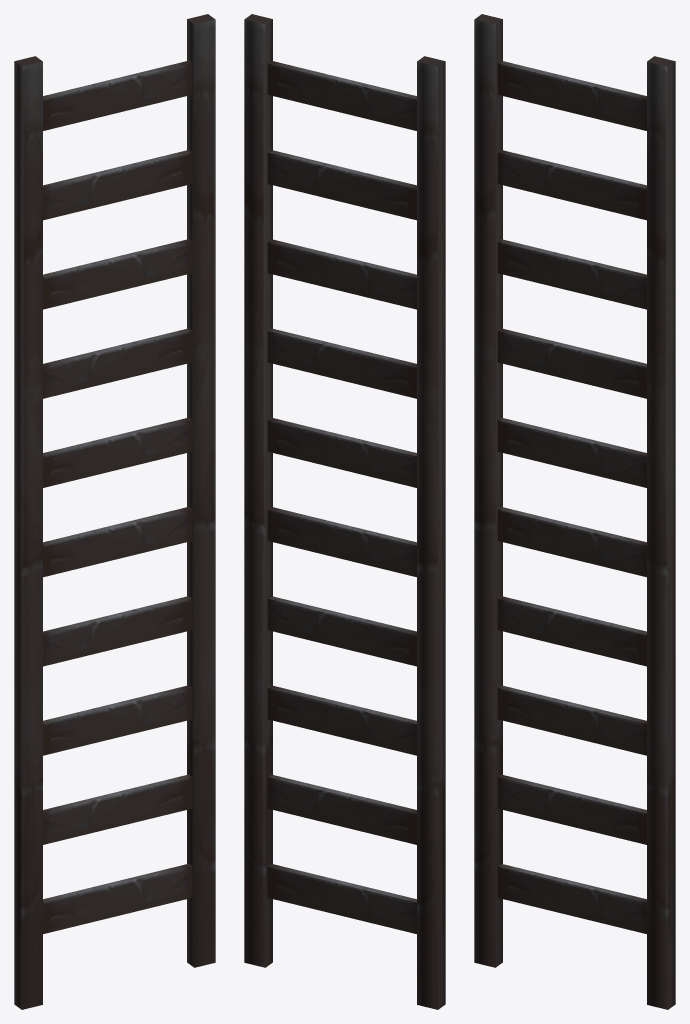
File: Lty_tizi01.FBX
The picture shows the model from 3 angles, left to right: view 1: azimuth 30°, elevation 25°; view 2: azimuth 150°, elevation 25°; view 3: azimuth 330°, elevation 25°; orthographic projection.
Parts seen in each view (by area): view 1: Lty_tizi01; view 2: Lty_tizi01; view 3: Lty_tizi01.
Boxes of the visible parts, x1,y1,x2,y2 form: Lty_tizi01: [14, 14, 215, 1009]; Lty_tizi01: [244, 14, 445, 1009]; Lty_tizi01: [474, 14, 675, 1009].
Size of the model in its own units: 57.39 by 3.89 by 267.
